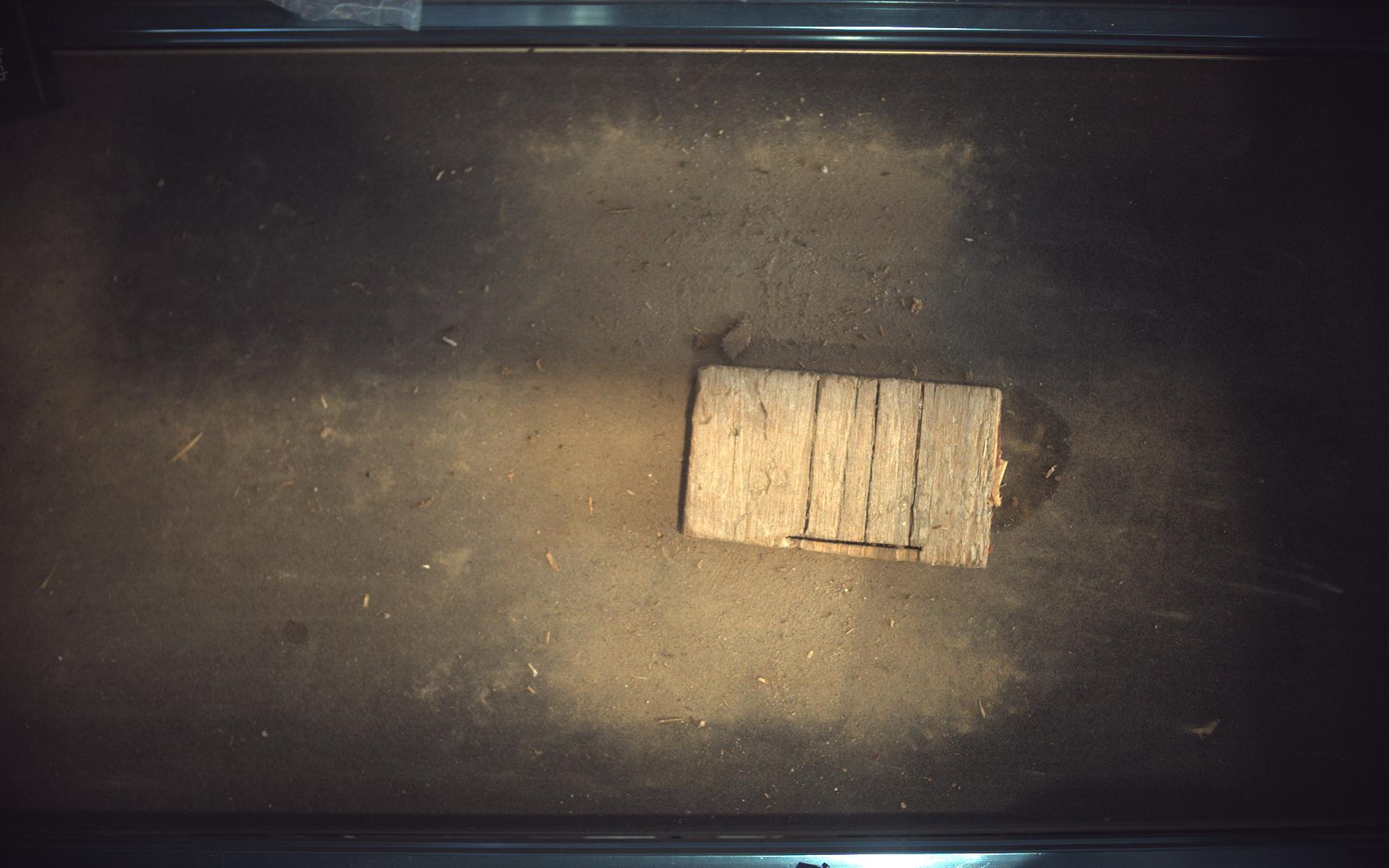wood: (684, 365, 1004, 568)
